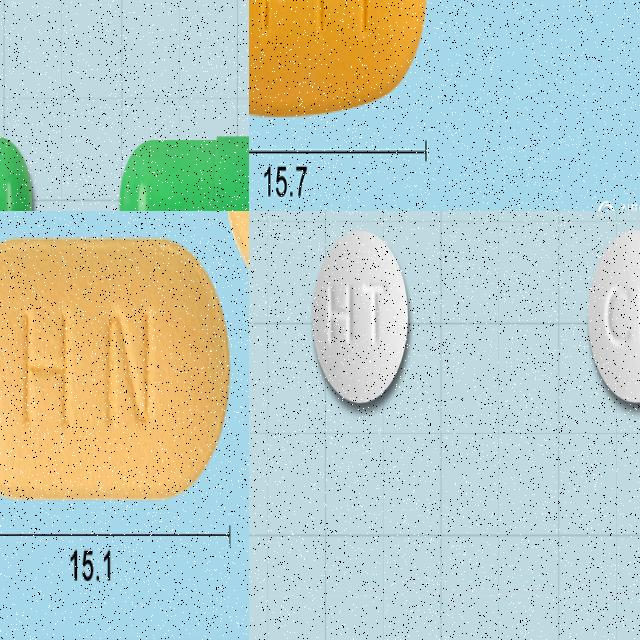Claycin: (249, 0, 433, 124)
Craproxin: (311, 228, 408, 404), (586, 228, 640, 402)
Cyclin: (0, 232, 231, 497)
Dentacline Cap: (118, 132, 249, 211)
